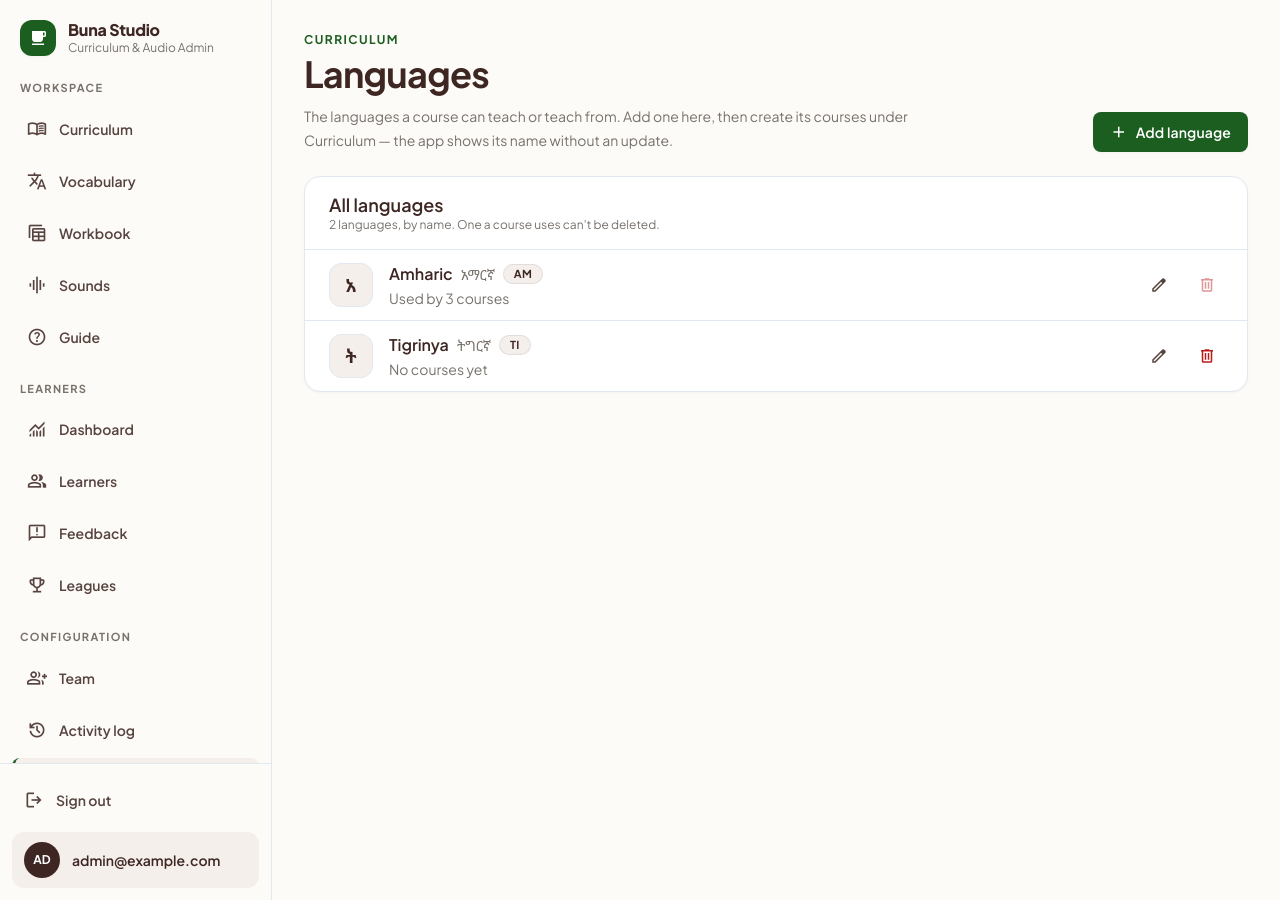
the languages page › corrects a name; the code stays
Step 1. Click the button named "Edit Amharic" → coordinates (1159, 285), box [1143,269,1175,301]
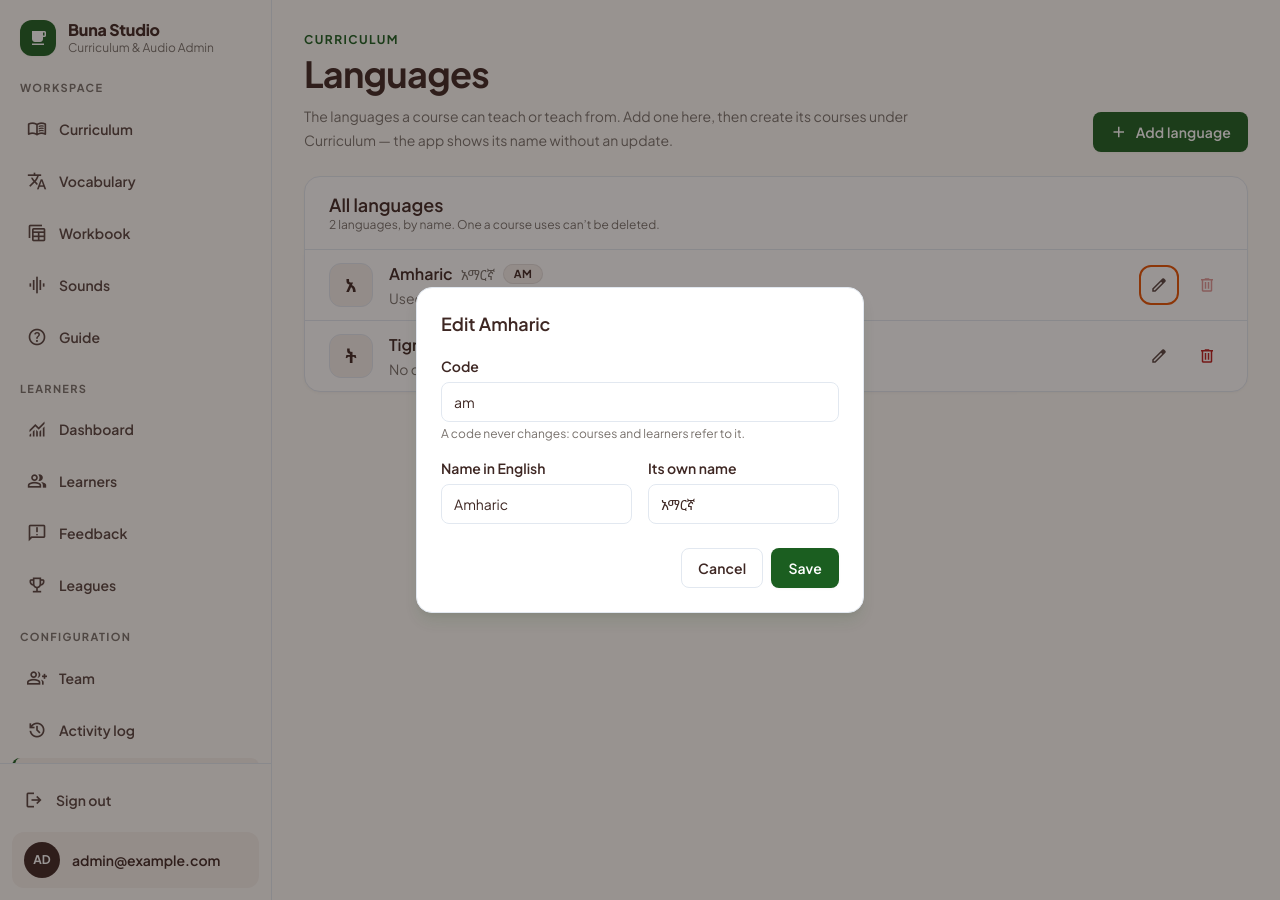
Result: the field labelled "Code" is disabled at [441,382,839,422]
Step 2. Replace the text in the field labelled "Its own name" with "አማርኛ ቋንቋ" → coordinates (744, 504), box [648,484,839,524]
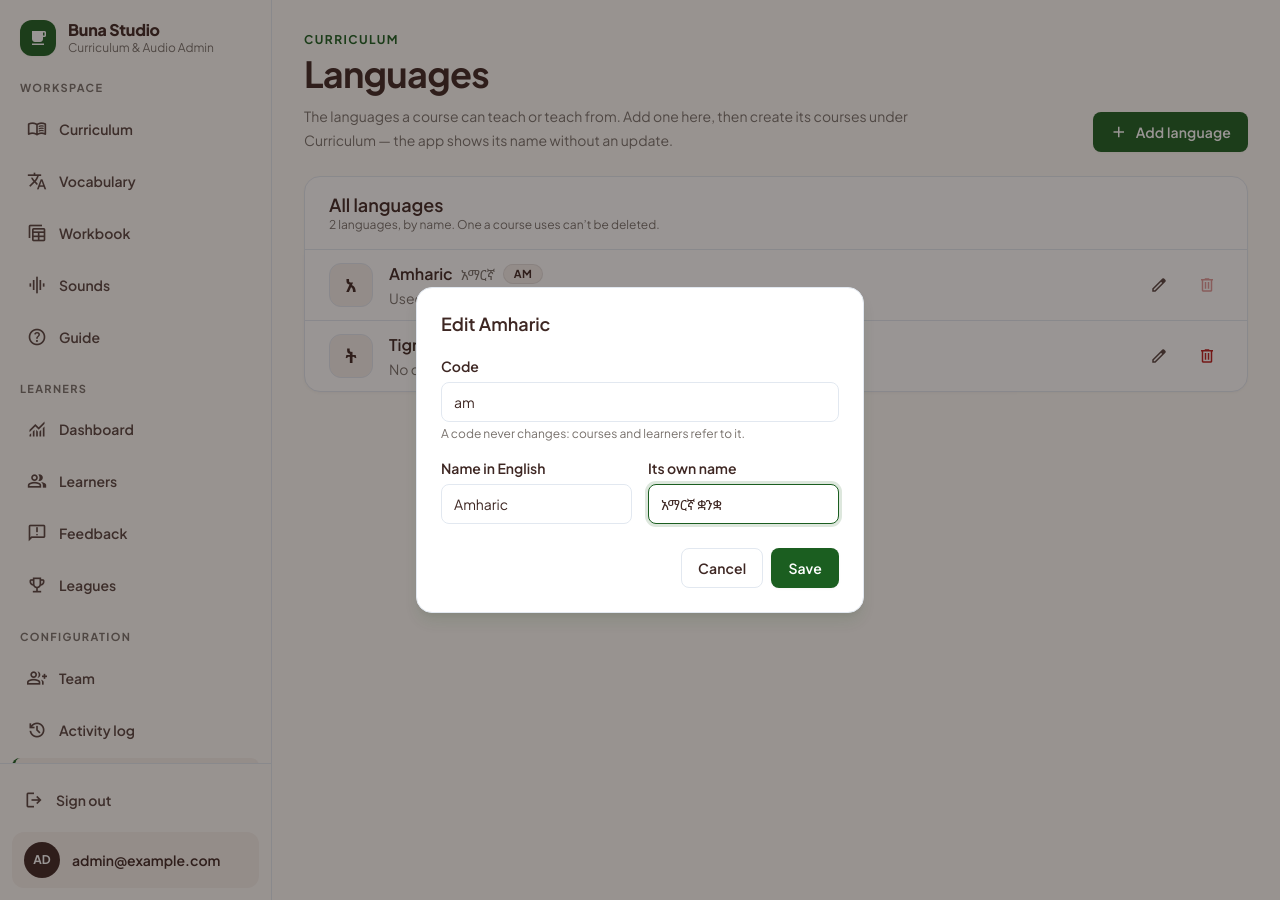
Step 3. Click the button "Save" → coordinates (805, 568), box [771,548,839,588]
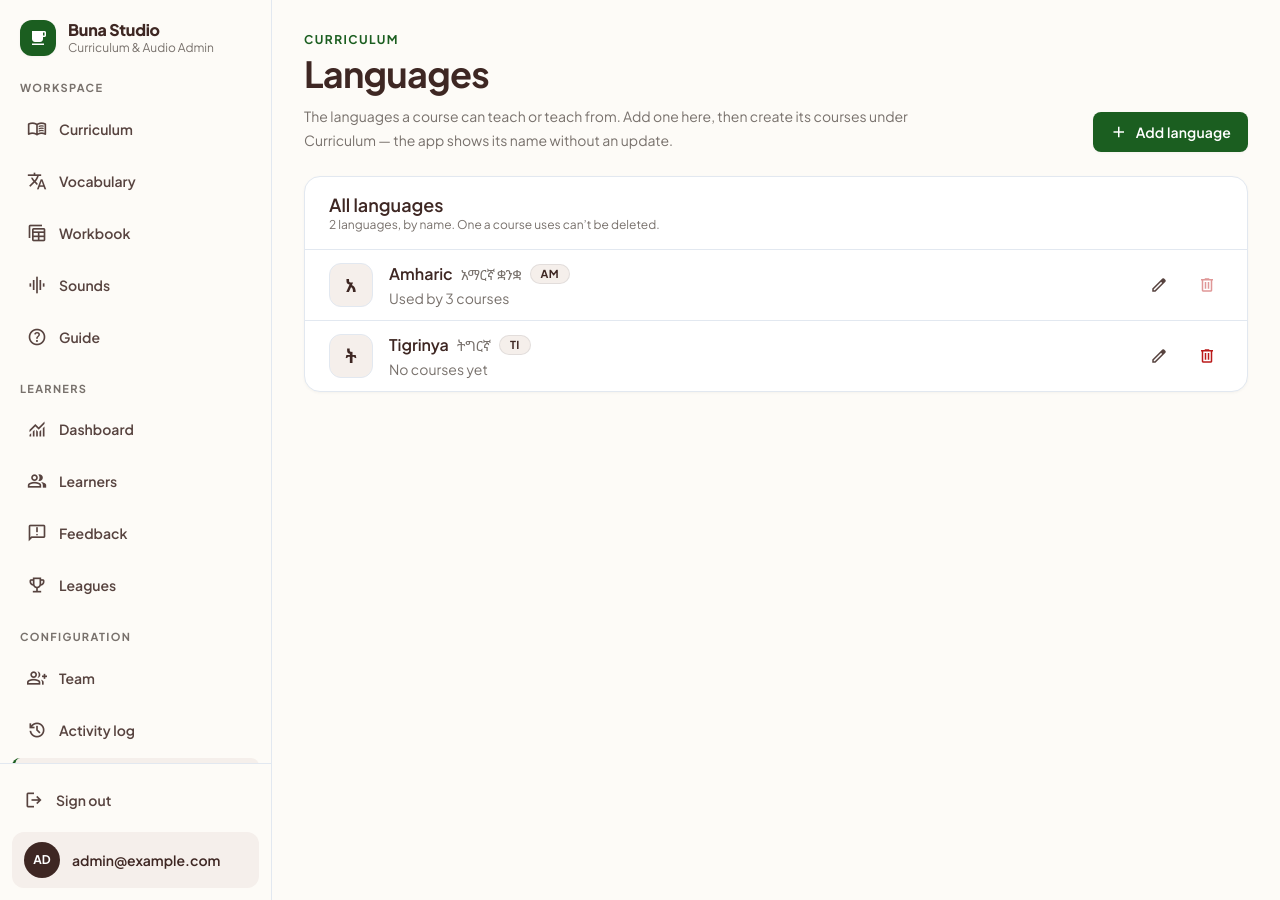
Result: the text "አማርኛ ቋንቋ" is shown at [461,264,522,284]
